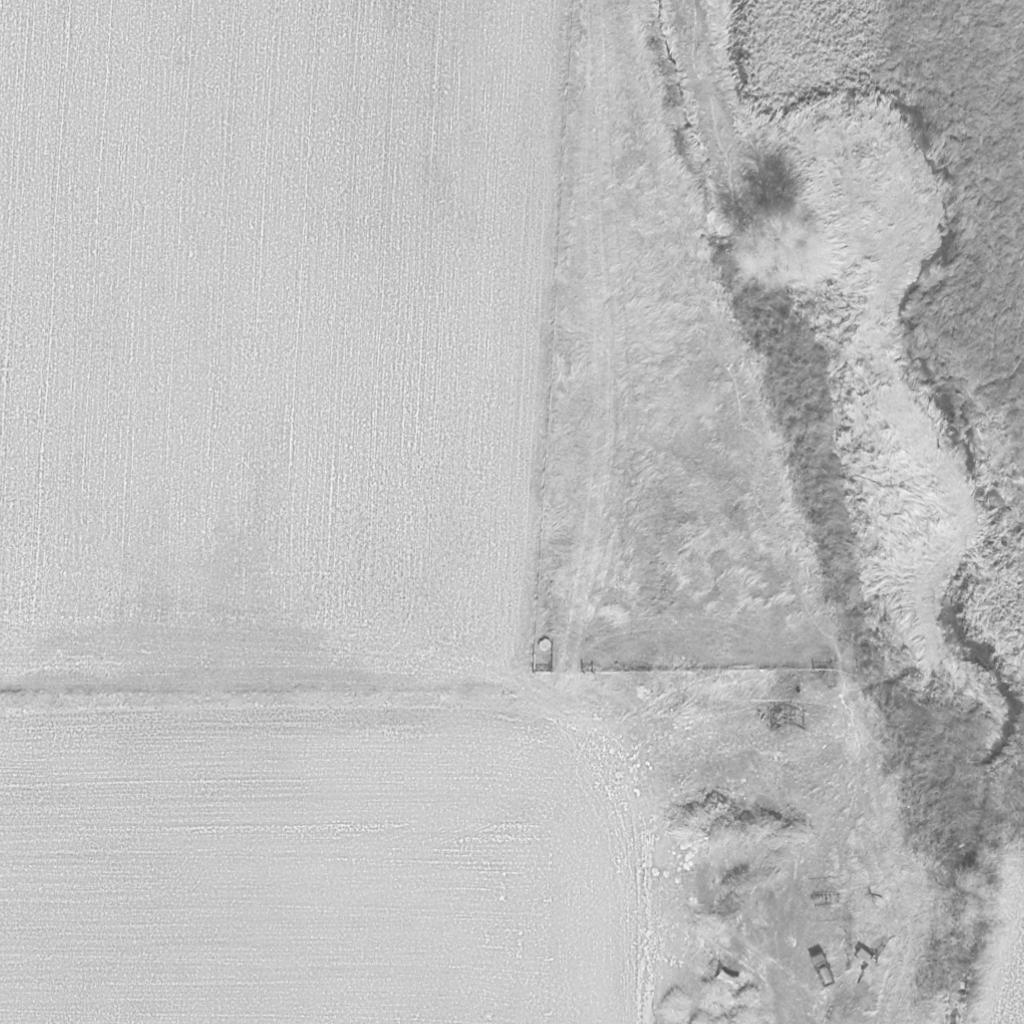vehicle: (810, 952, 836, 988)
